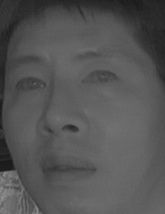eye: (82, 65, 121, 90), (13, 73, 48, 96)
mouth: (39, 149, 99, 185)
